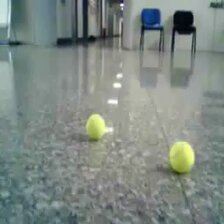tennis: (168, 140, 194, 172), (86, 114, 105, 139)
